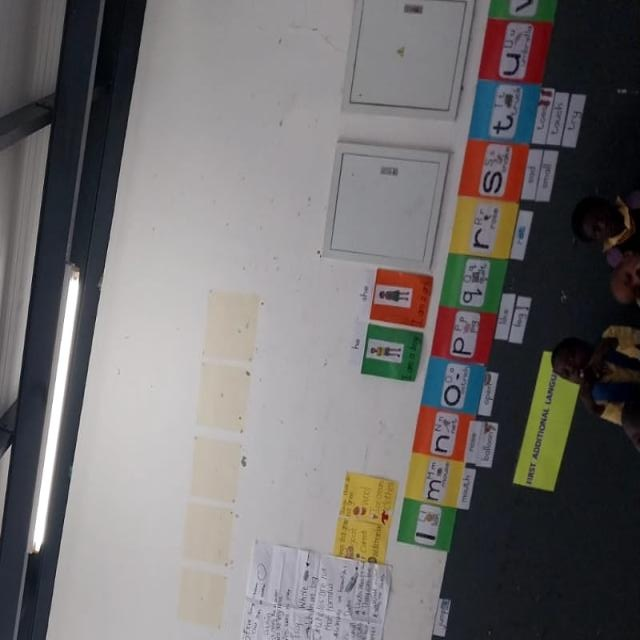fluorescent tube: (20, 253, 108, 579)
